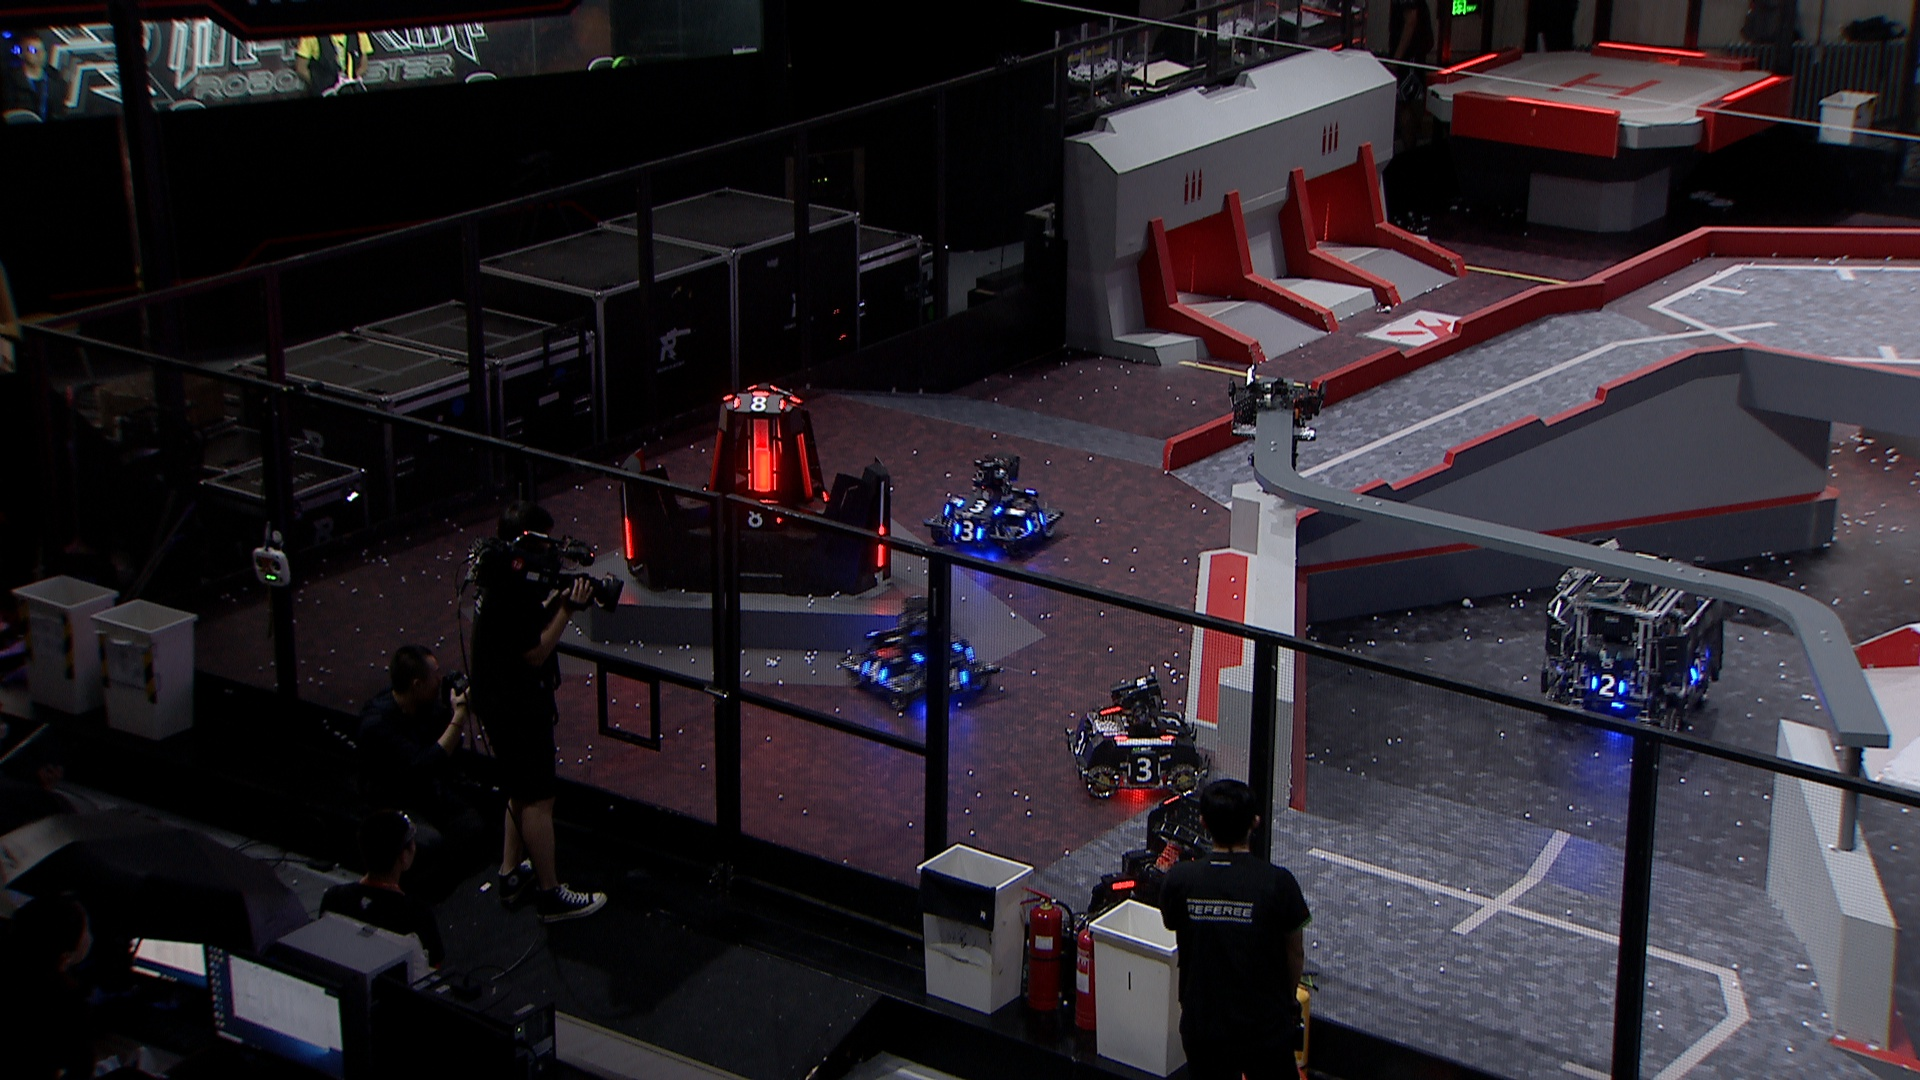armor: (746, 442, 775, 498), (793, 431, 814, 498), (732, 505, 782, 527), (707, 427, 724, 491), (955, 495, 1000, 518), (735, 394, 785, 413), (860, 657, 889, 687), (1589, 675, 1627, 698), (1129, 760, 1163, 781), (951, 520, 982, 541), (942, 665, 965, 690), (622, 513, 633, 564), (876, 524, 887, 568), (1158, 708, 1178, 733), (1687, 659, 1706, 683), (1072, 728, 1088, 757), (1025, 509, 1044, 531)
base: (613, 376, 897, 597)
car: (1538, 531, 1735, 738), (1087, 782, 1242, 930), (835, 585, 997, 708), (1060, 670, 1209, 799), (920, 452, 1069, 556)
watcher: (1222, 363, 1327, 489)
